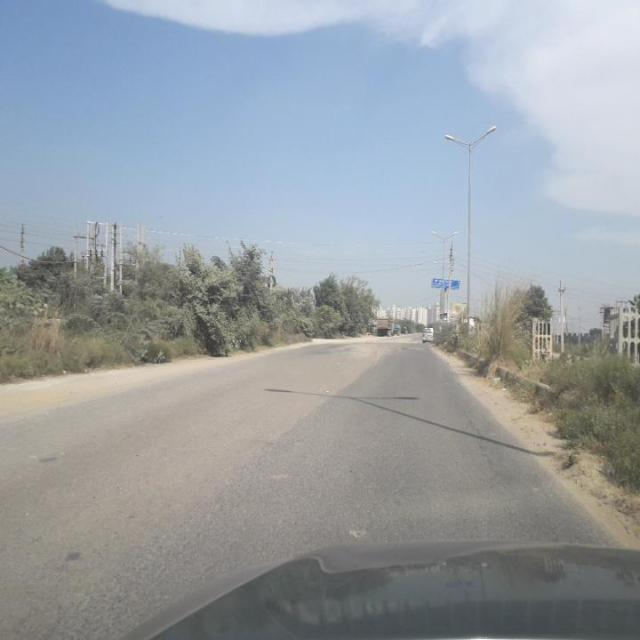D20: (24, 506, 207, 620)
